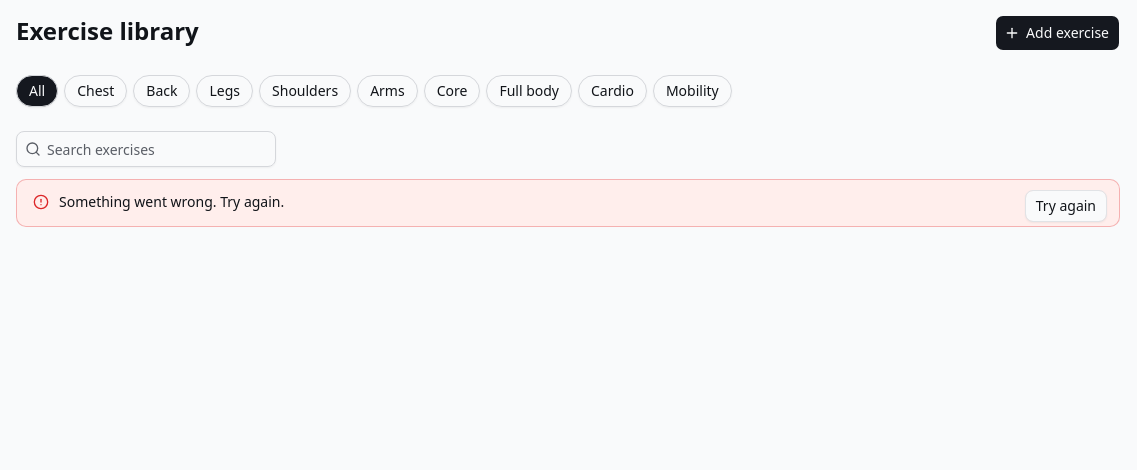
ExerciseLibraryPage › explains a failure with code internal.unknown-code and loads again on "Try again"
The image size is (1137, 470).
Check: the message shows "Something went wrong. Try again.", box left=59, top=192, right=284, bottom=211
What coordinates should you click on to do the following:
click the button "Try again"
I would click on:
 (1066, 206)
Its box is left=1025, top=190, right=1107, bottom=222.
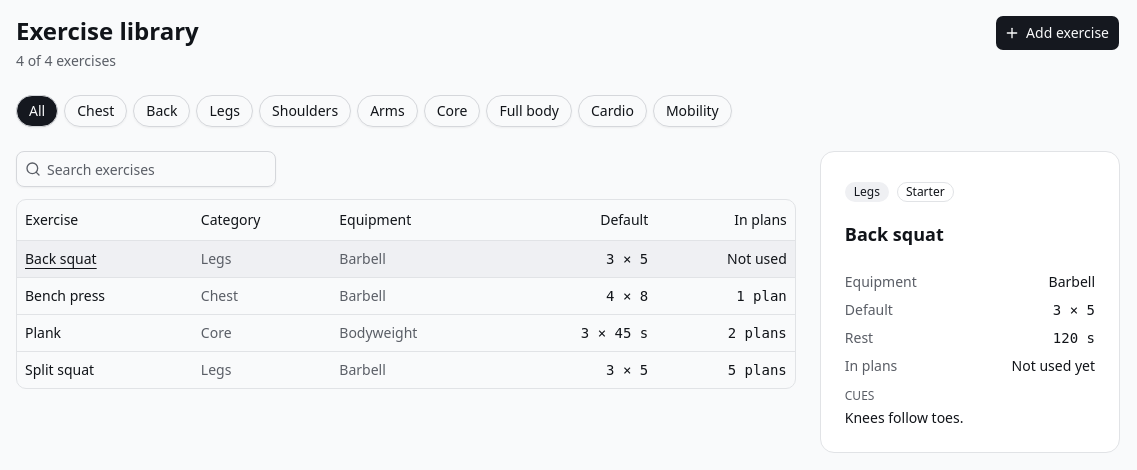
Check: the button "Back squat" is shown, box left=25, top=248, right=97, bottom=268
